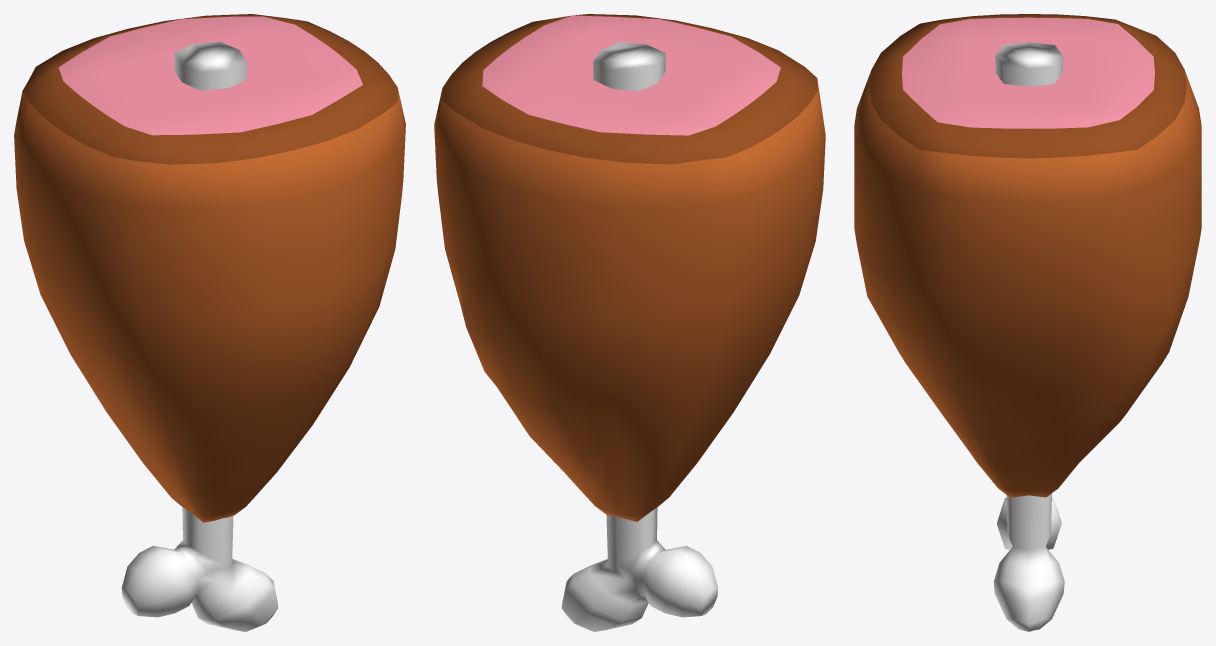
Rendered from Ham.fbx.
3 views of the same model, side by side, from view 1: azimuth 30°, elevation 25°; view 2: azimuth 150°, elevation 25°; view 3: azimuth 270°, elevation 25° (orthographic). The views are drawn at different scales.
Visible parts, largest first — view 1: pCube1, pCube2; view 2: pCube1, pCube2; view 3: pCube1, pCube2.
Boxes of the visible parts, x1,y1,x2,y2 form: pCube1: (14,14,405,522); pCube2: (121,41,278,631); pCube1: (434,14,825,521); pCube2: (561,42,717,631); pCube1: (854,14,1201,497); pCube2: (993,42,1064,631).
Bounding box in the file's own units: 7.84 × 13.06 × 7.4.
